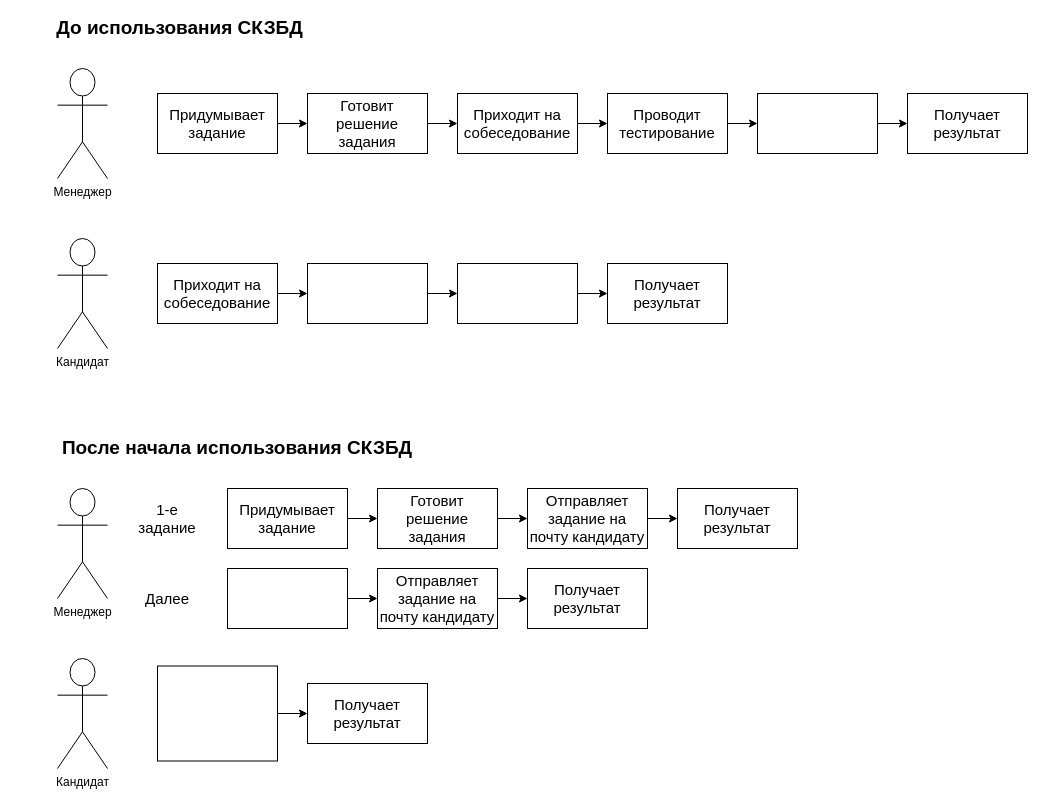
Image size: 1045x807. Some labels were removed from this diagram. The centre of each missing label's shape, as x and y in pixels:
Выбирает задание: the point at 287,598
Ожидает проверки менеджером: the point at 517,293
Проверяет решение кандидата: the point at 817,123
Решает тестовое задание: the point at 367,293
Решает тестовое задание, полученное по почте: the point at 217,713
